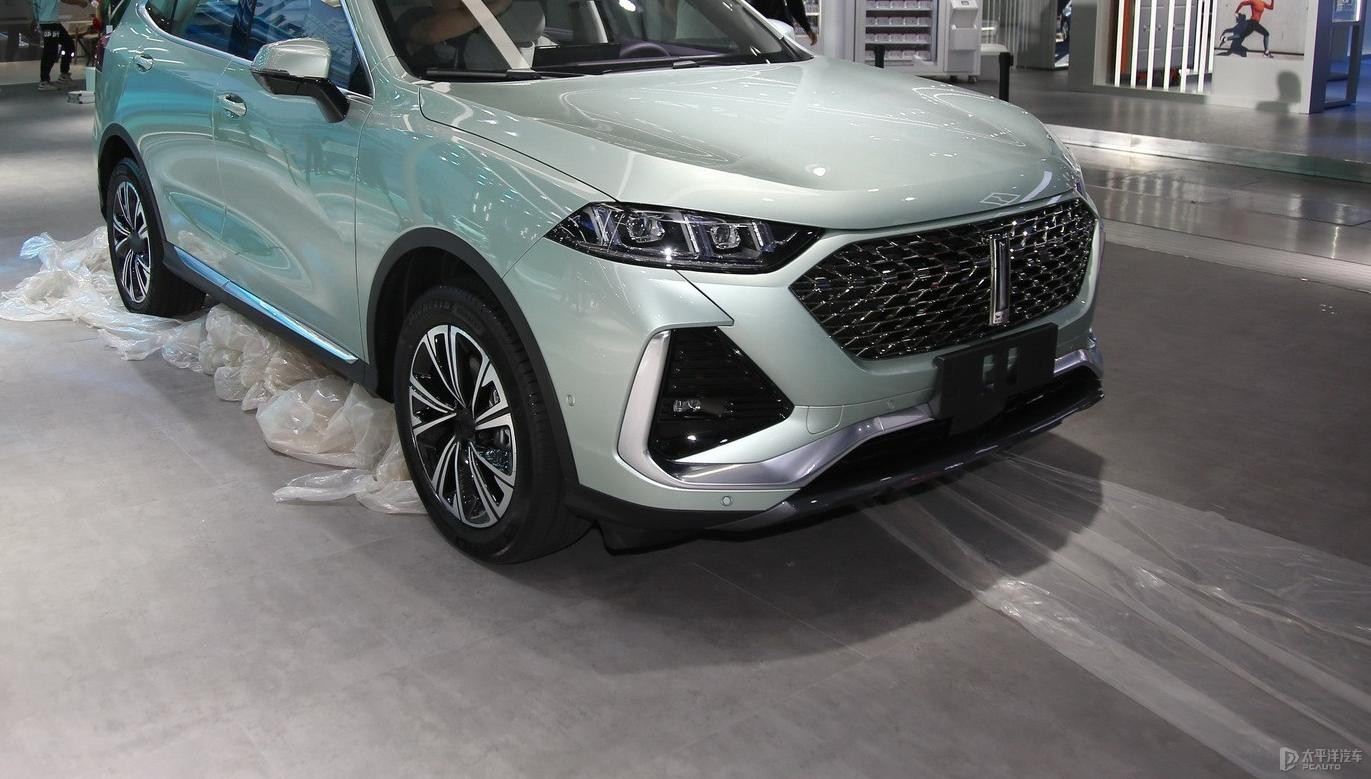WEY: (990, 239, 1007, 325)
